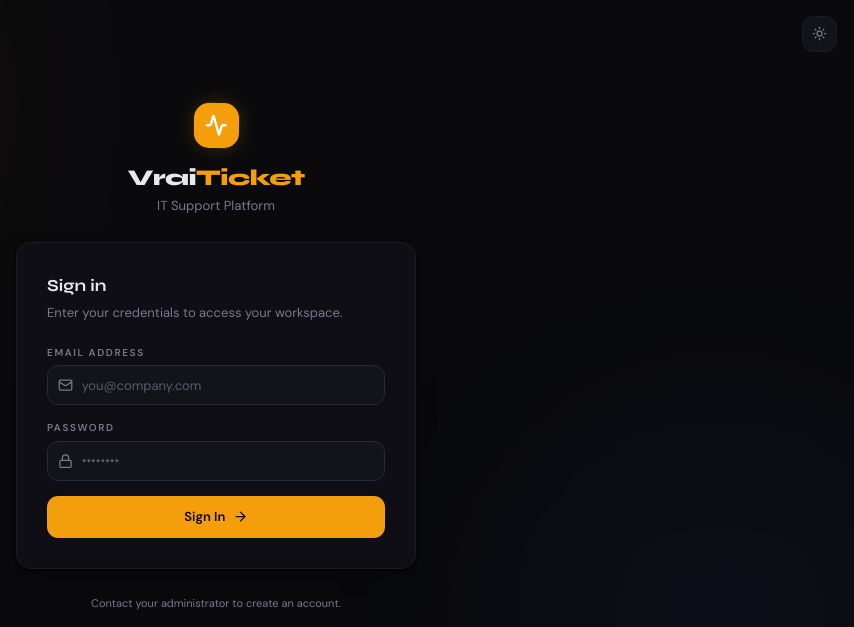
it: LoginPage — submission › disables button while loading
This screenshot has width=854, height=627.
Type "a@b.com" into the field with placeholder "you@company.com".
click(216, 385); type("a@b.com")  # box [47, 365, 385, 405]
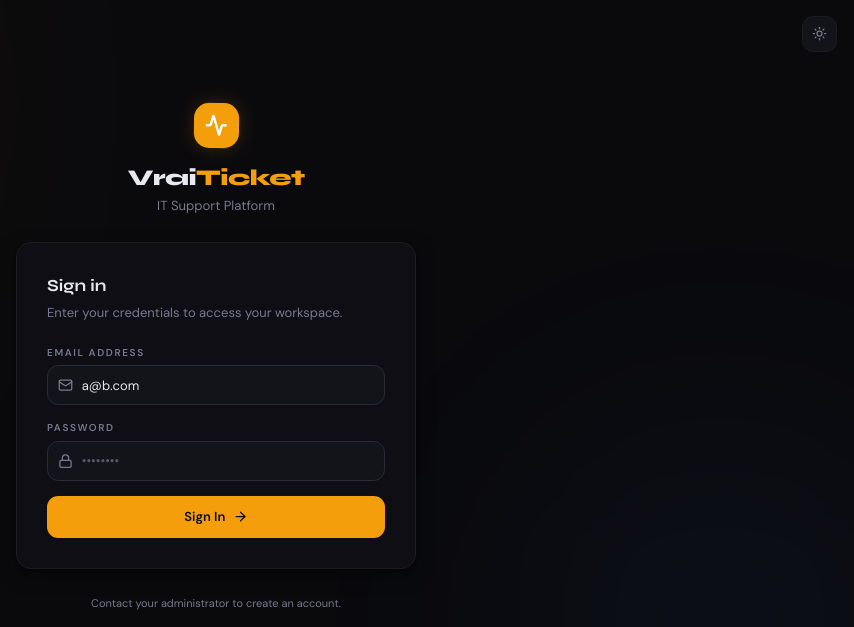
Type "pw" into the password field with placeholder "••••••••".
click(216, 461); type("pw")  # box [47, 441, 385, 481]
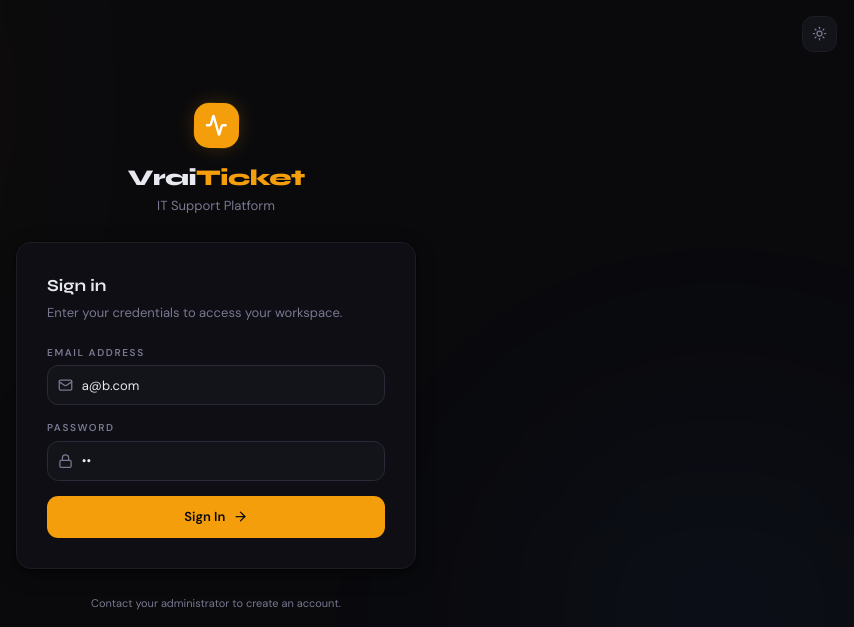
Click the button "Sign In".
click(216, 517)  # box [47, 496, 385, 538]
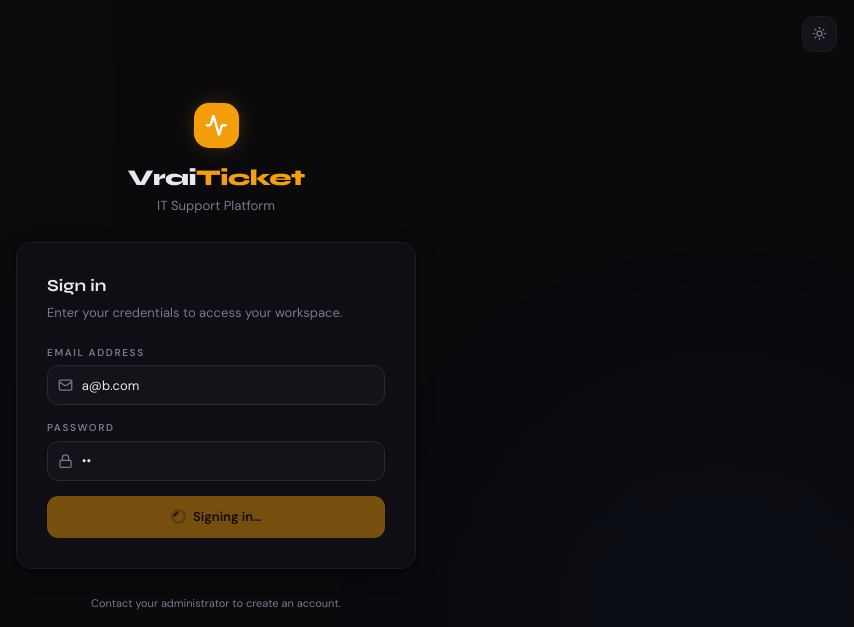
Expected: the button "Signing in…" is disabled, [47, 496, 385, 538]
